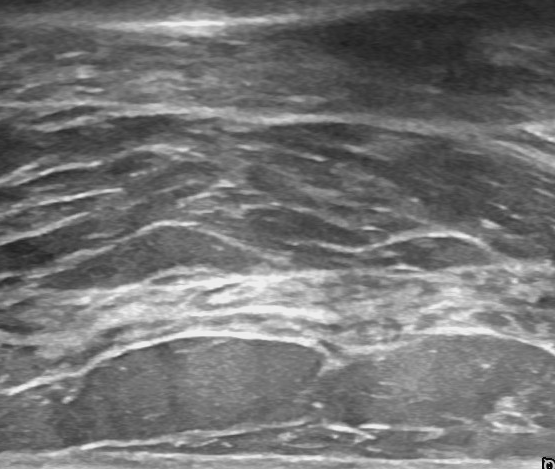Normal: (3, 0, 555, 469)
